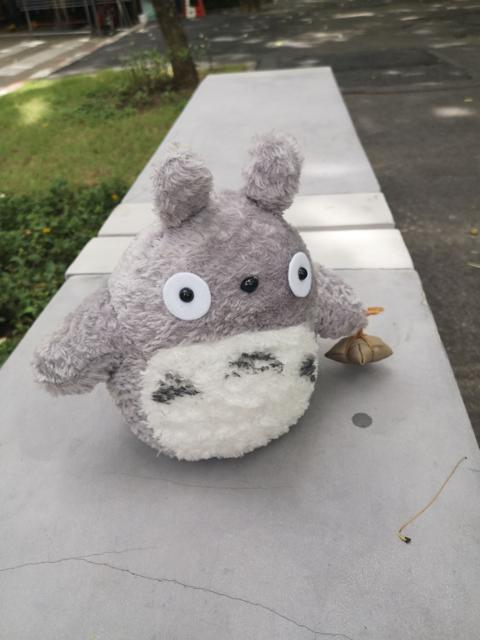totoro: (27, 127, 395, 470)
